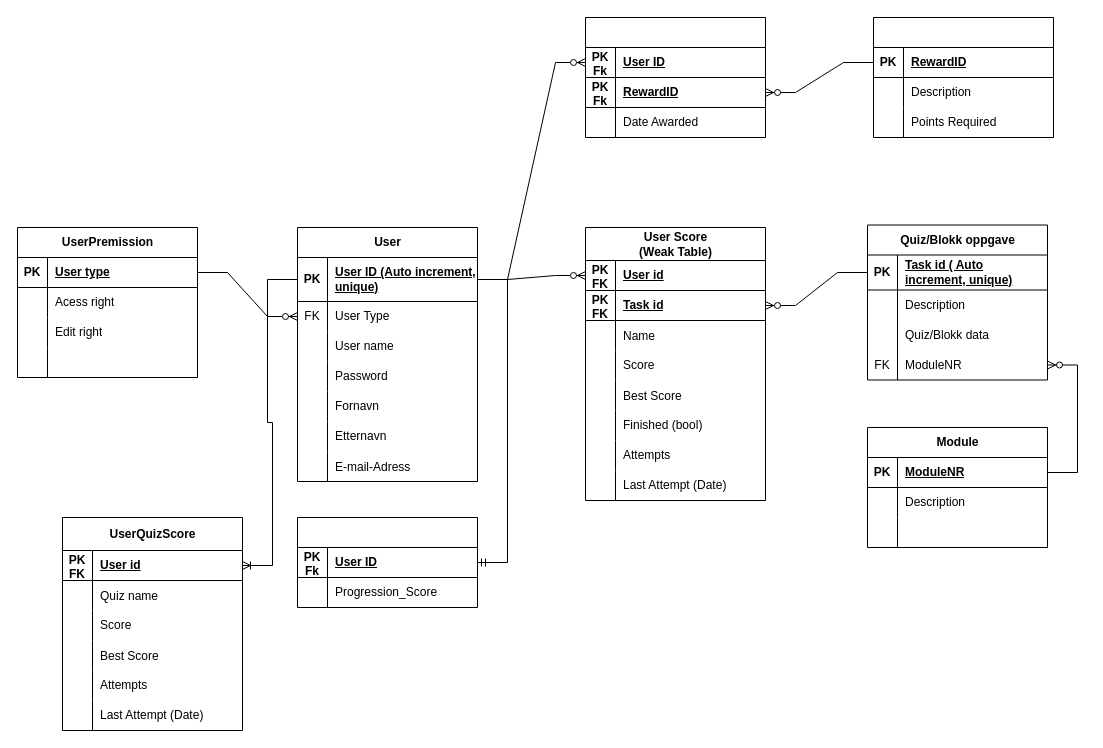
The diagram is 1103 pixels wide and 748 high, and some of its shapes have lost their labels. Here are the shapes that lost their labels. From the top down, the box of each, then its label:
(584, 16, 766, 138): UserRewards
(872, 16, 1054, 138): Rewards
(296, 516, 478, 608): UserProgression
